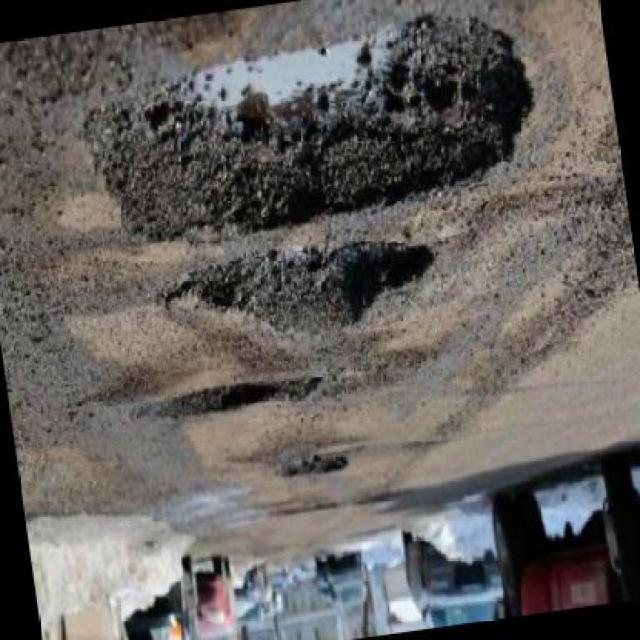pothole1: (72, 1, 552, 261), (153, 224, 445, 361), (127, 372, 324, 430), (278, 450, 350, 487)
